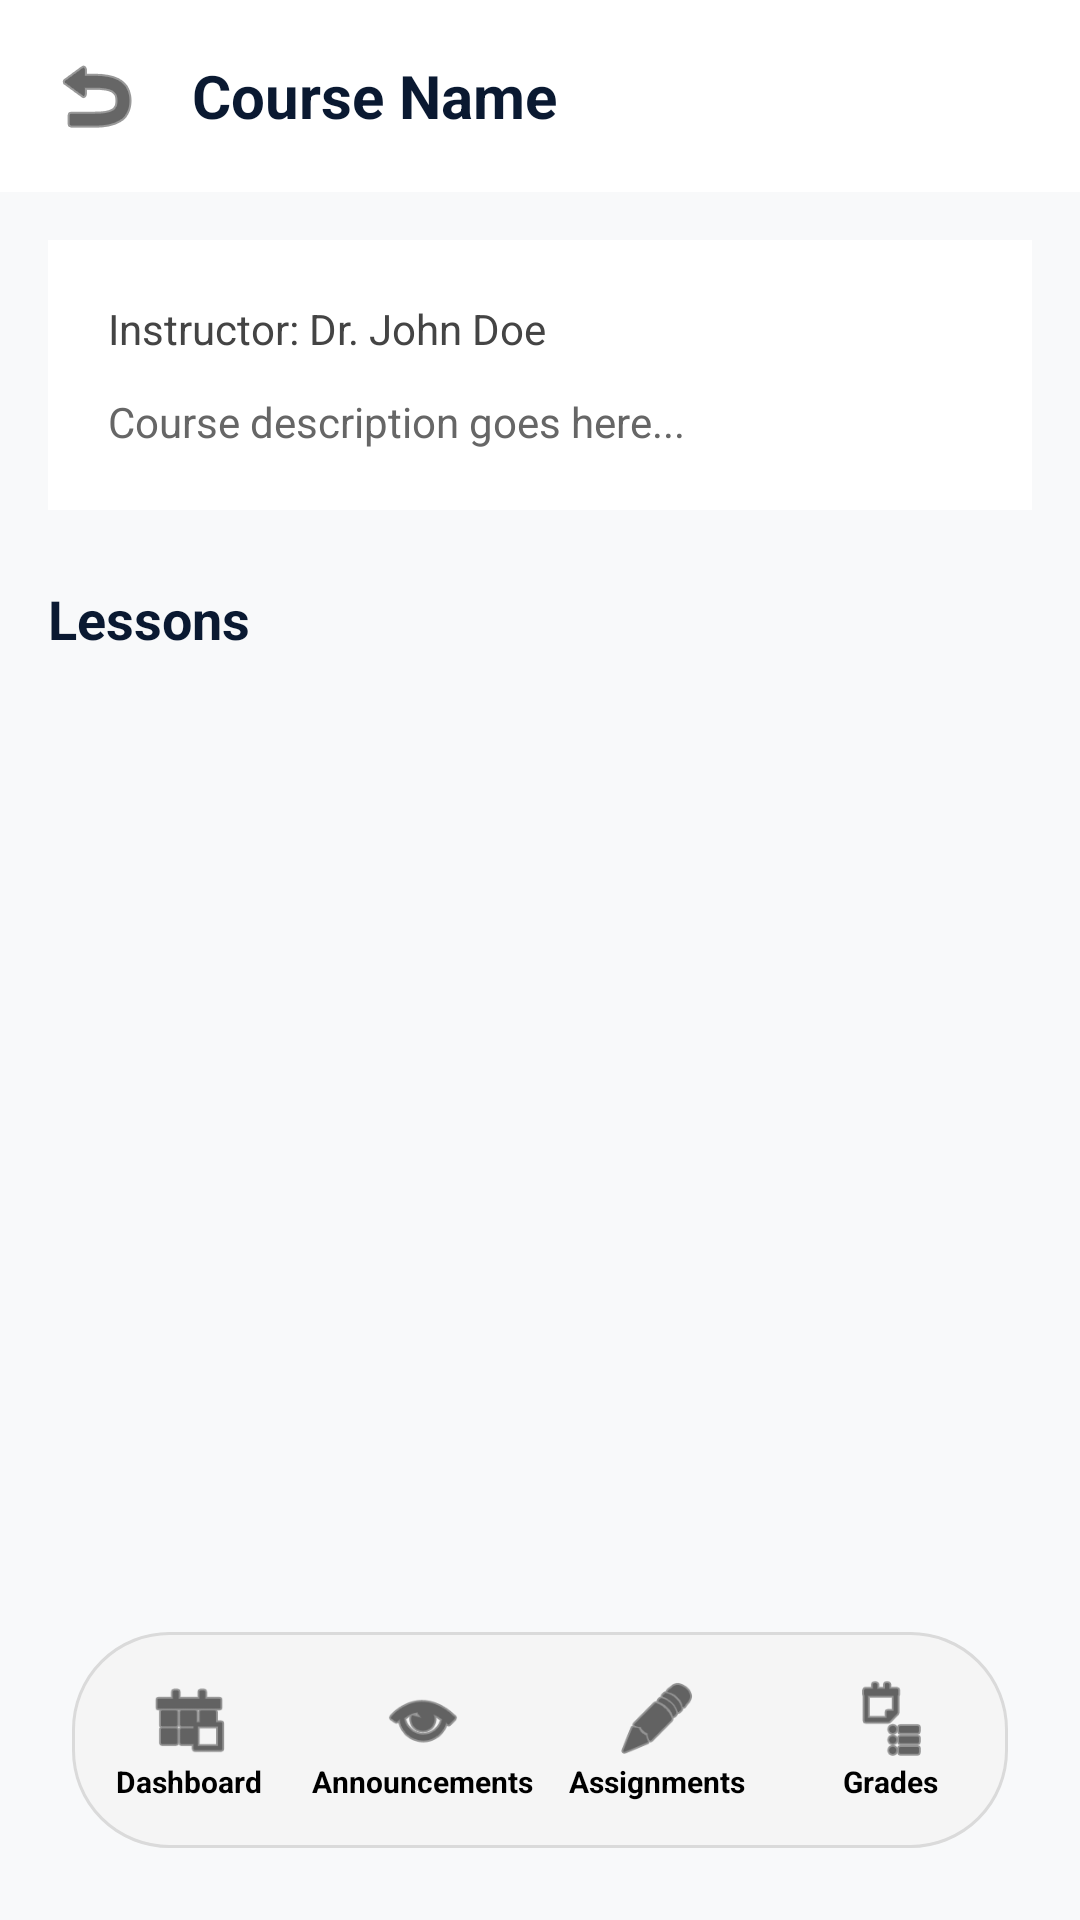

Icons on this 1080*1920 Android screen, each with the point to tap as (x,y):
agenda: (891,1718)
Back: (97,96)
edit: (656,1718)
today: (189,1720)
view: (423,1721)
